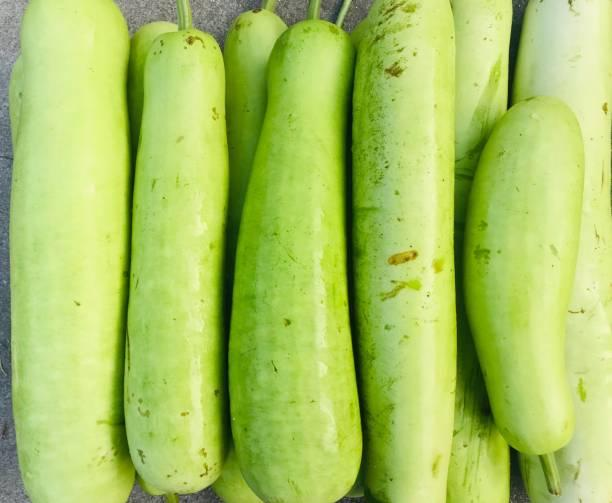bottle gourd: (2, 0, 611, 502), (226, 0, 363, 502), (7, 0, 134, 502), (350, 0, 457, 502), (123, 0, 229, 497), (510, 0, 611, 502), (461, 93, 586, 458)
